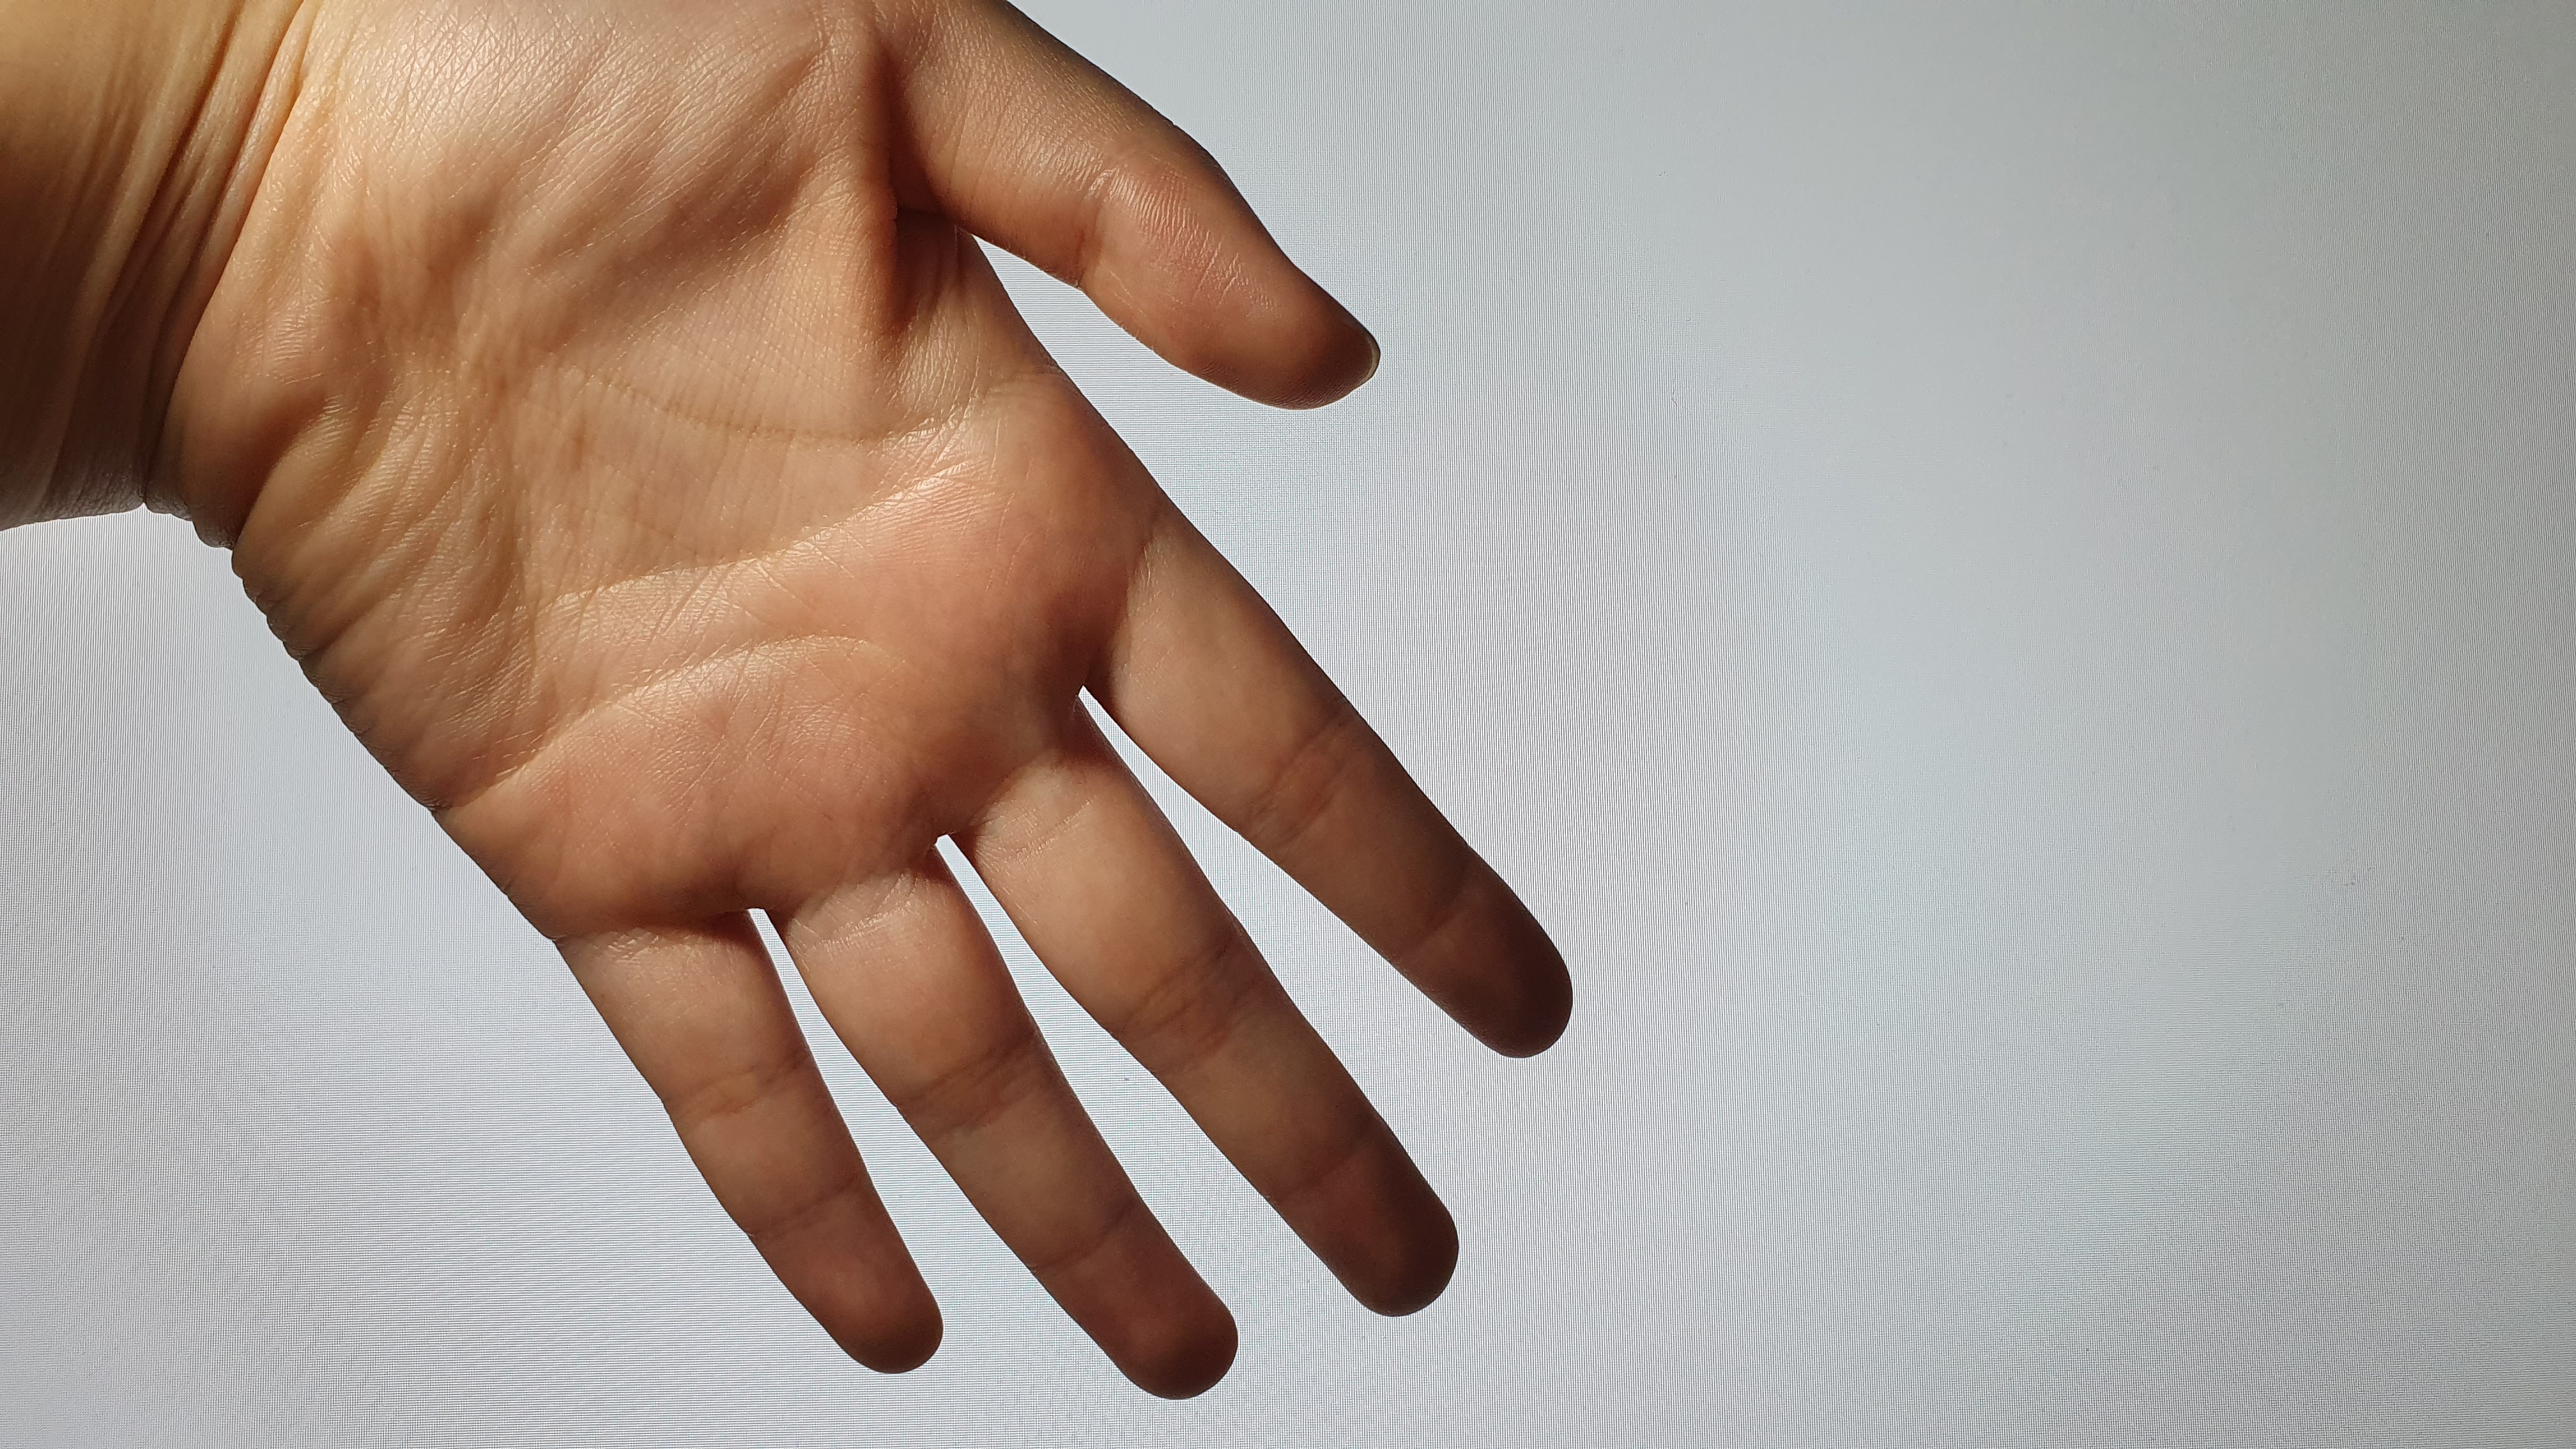hand: (191, 7, 1612, 1422)
index finger: (1083, 510, 1582, 1069)
middle finger: (948, 732, 1456, 1323)
palm: (262, 11, 1129, 929)
pinky: (566, 906, 955, 1389)
ring finger: (773, 863, 1237, 1410)
thumb: (904, 0, 1384, 418)
